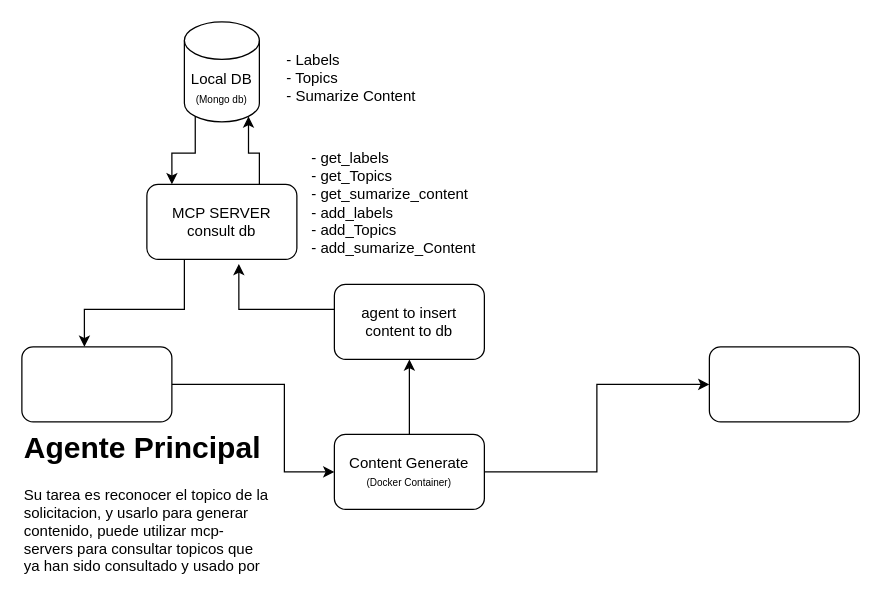
Some shapes in this 881 by 598 pixel diagram are drawn without their labels. Here are the shapes that lost their labels. From the top down, the centre of each, then its label:
(x=96, y=384): LangGraph Agent (Docker Container)
(x=783, y=384): Render Information
